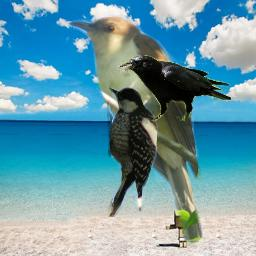Crow: (117, 55, 231, 121)
Cuckoo: (62, 13, 208, 253)
Woodpecker: (107, 86, 158, 217)
